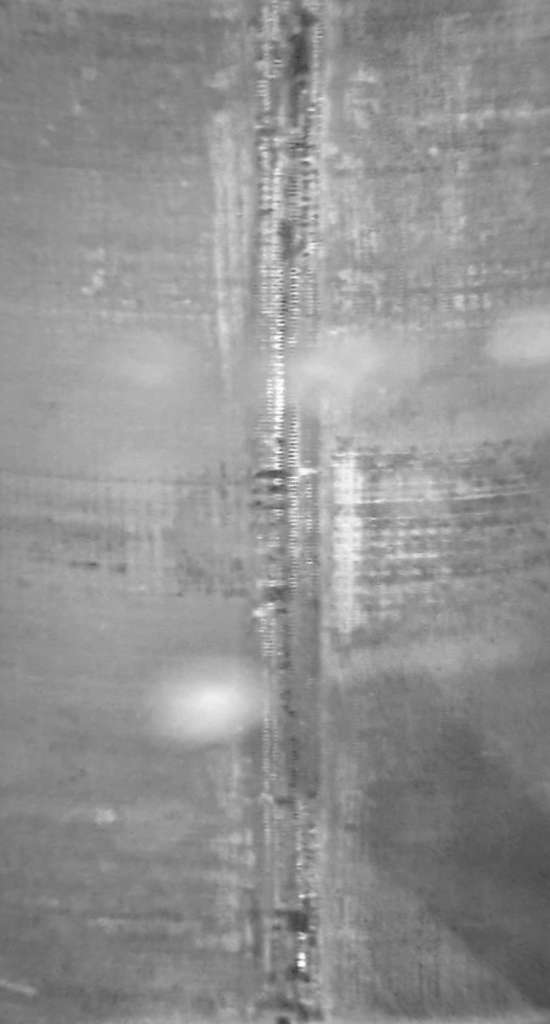splice: (248, 3, 333, 1024)
